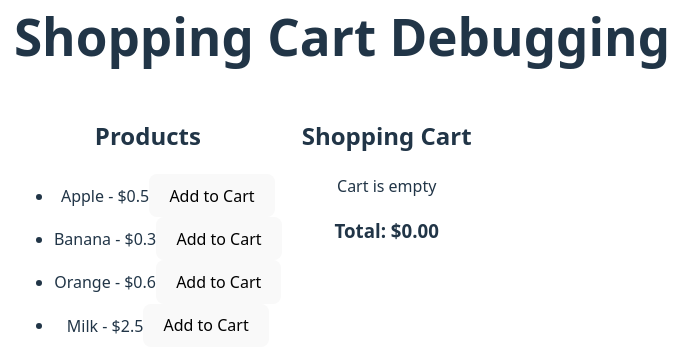
Test: ShoppingCartApp › adds item to cart
Click the button "Add to Cart" in the row of "Apple".
click(212, 196)  # box top-left (149, 174), bottom-right (275, 217)
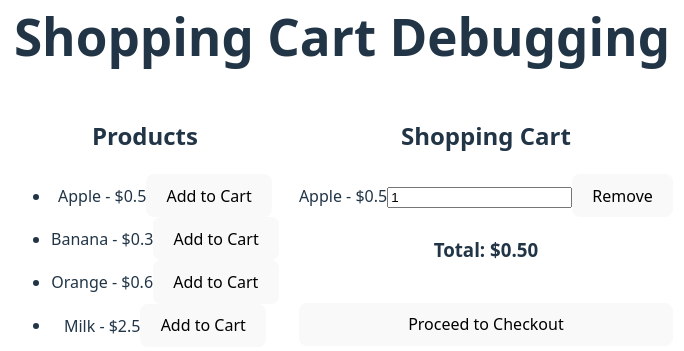
Check: the text "Apple - $0.5" is shown, box top-left (299, 185), bottom-right (387, 207)
